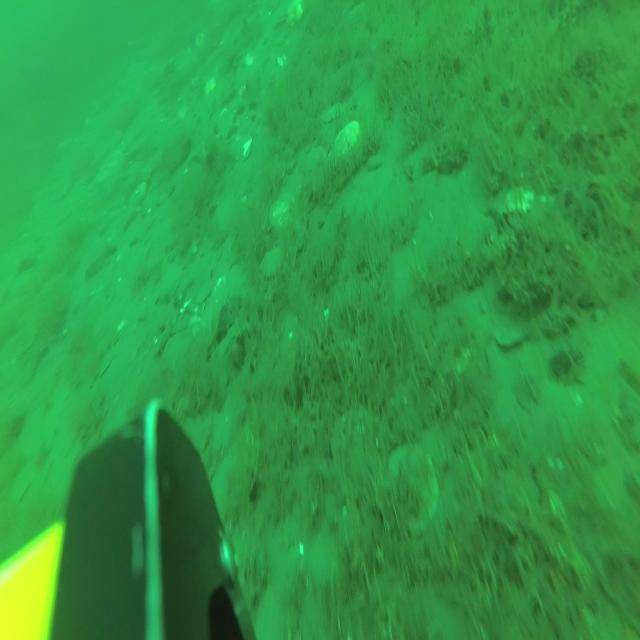scallop: (334, 121, 361, 161), (269, 196, 293, 230), (260, 248, 282, 278), (286, 0, 304, 26), (319, 103, 346, 119), (204, 74, 216, 93)
